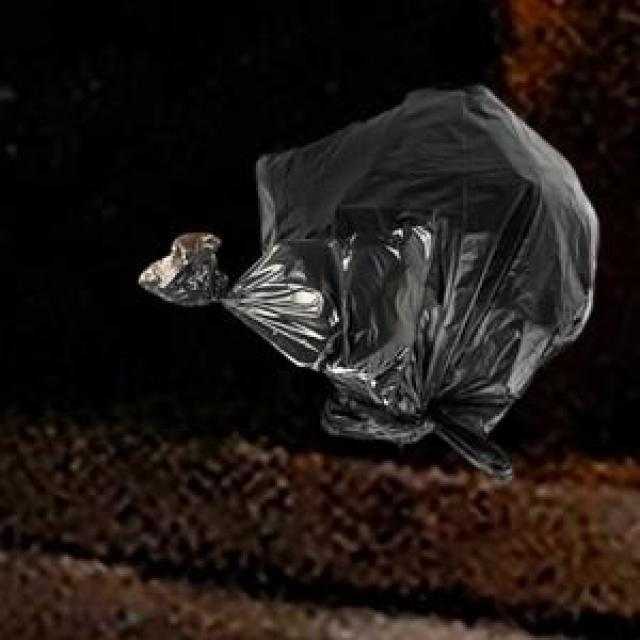Vinyl: (141, 88, 599, 476)
